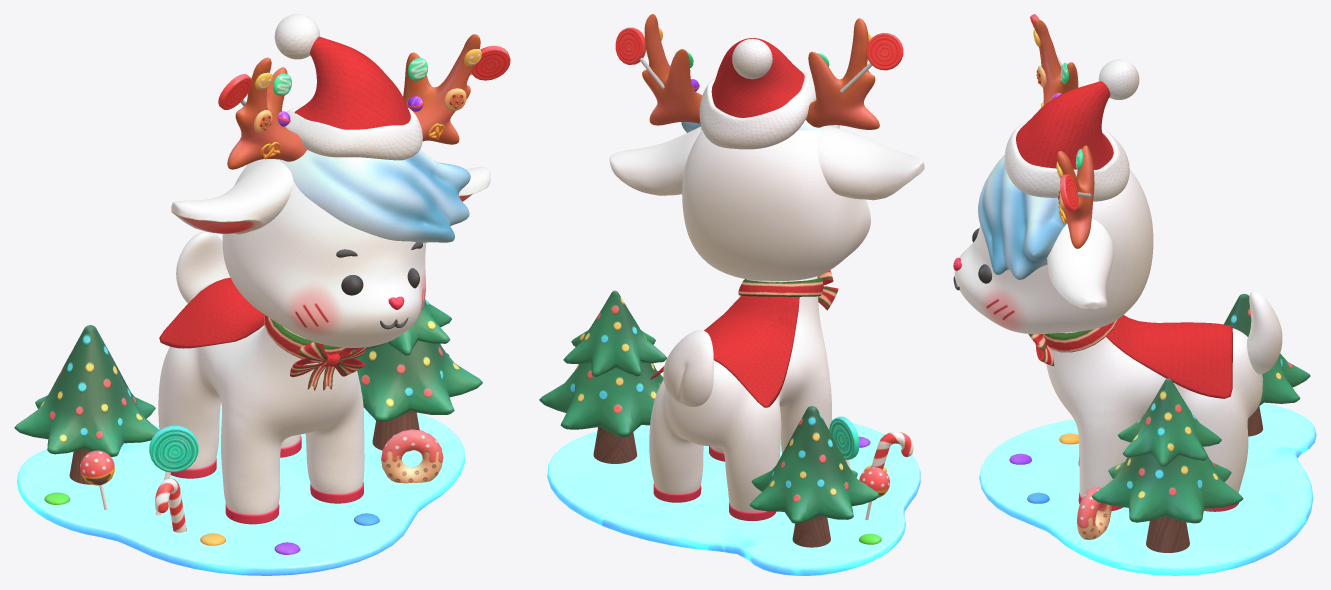
Rendered from christmas_cute_reindeer.glb.
3 views of the same model, side by side, from view 1: azimuth 30°, elevation 25°; view 2: azimuth 150°, elevation 25°; view 3: azimuth 270°, elevation 25° (orthographic). The views are drawn at different scales.
Parts seen in each view (by area): view 1: Head, Prop, Body; view 2: Head, Prop, Body; view 3: Prop, Head, Body.
Boxes of the visible parts, x1=… form: Head: x1=171, y1=14, x2=510, y2=347; Prop: x1=14, y1=299, x2=482, y2=575; Body: x1=158, y1=231, x2=366, y2=524; Head: x1=609, y1=14, x2=924, y2=280; Prop: x1=539, y1=290, x2=920, y2=575; Body: x1=649, y1=270, x2=838, y2=520; Prop: x1=979, y1=293, x2=1316, y2=575; Head: x1=953, y1=14, x2=1153, y2=334; Body: x1=1028, y1=291, x2=1282, y2=511.
Bounding box in the file's own units: 1.37 × 1.62 × 1.2.
1 material, 1 textured.
